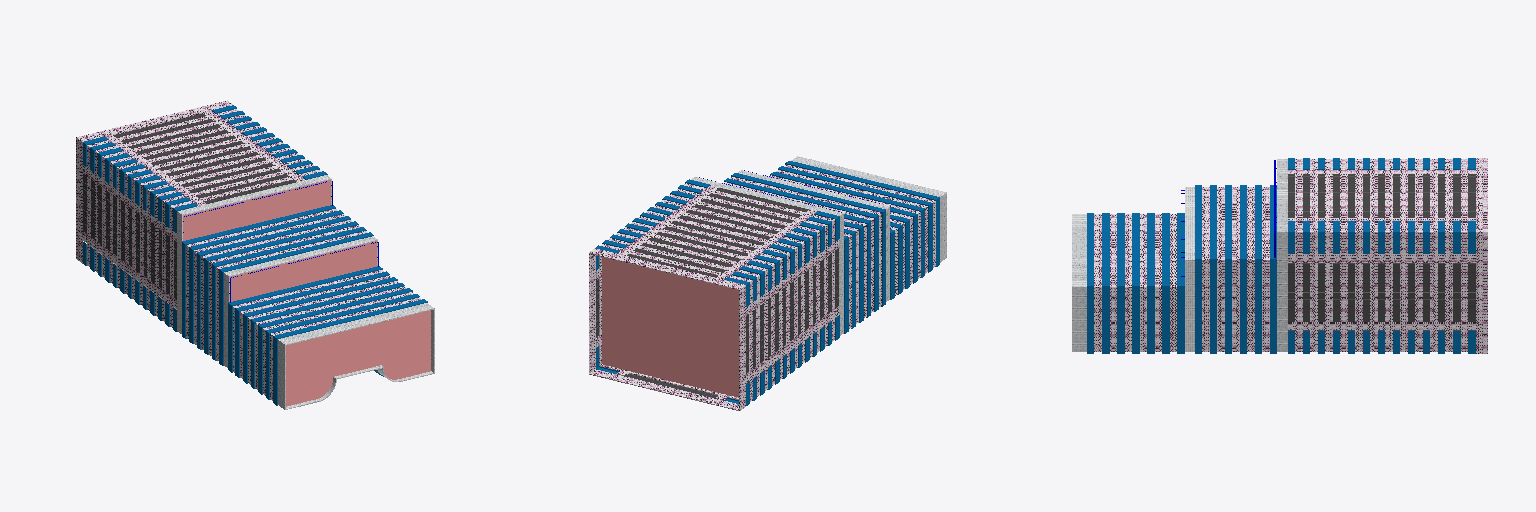
3 renders of one model, left to right at view 1: azimuth 30°, elevation 25°; view 2: azimuth 150°, elevation 25°; view 3: azimuth 270°, elevation 25°, orthographic.
Parts seen in each view (by area): view 1: slab_01, glass_01, wall_06, wall_01, glass_1_02, glass_02, wall_1_03, wall_07, wall_1_01, wall_1_02, wall_1_04, frame_01; view 2: slab_01, wall_06, glass_01, glass_1_02, wall_01, wall_07, glass_02, wall_1_03, wall_1_01, wall_1_02, frame_01, wall_08; view 3: glass_01, wall_06, wall_01, glass_1_02, wall_07, wall_1_01, wall_1_03, wall_1_02, frame_01, wall_02, wall_03.
Part boxes in pixels (bbox=[...]): slab_01: bbox=[92, 180, 430, 406]; glass_01: bbox=[83, 105, 427, 405]; wall_06: bbox=[87, 109, 321, 327]; wall_01: bbox=[186, 209, 421, 400]; glass_1_02: bbox=[83, 114, 295, 299]; glass_02: bbox=[86, 108, 427, 405]; wall_1_03: bbox=[278, 303, 433, 409]; wall_07: bbox=[76, 100, 232, 263]; wall_1_01: bbox=[177, 175, 331, 333]; wall_1_02: bbox=[224, 236, 377, 367]; wall_1_04: bbox=[182, 179, 434, 409]; frame_01: bbox=[83, 115, 379, 374]; slab_01: bbox=[602, 257, 837, 397]; wall_06: bbox=[600, 183, 834, 401]; glass_01: bbox=[596, 161, 939, 405]; glass_1_02: bbox=[596, 188, 838, 397]; wall_01: bbox=[723, 164, 935, 328]; wall_07: bbox=[589, 248, 745, 410]; glass_02: bbox=[597, 163, 935, 400]; wall_1_03: bbox=[791, 156, 946, 262]; wall_1_01: bbox=[691, 177, 843, 335]; wall_1_02: bbox=[738, 170, 889, 301]; frame_01: bbox=[596, 189, 838, 395]; wall_08: bbox=[589, 253, 823, 410]; glass_01: bbox=[1087, 158, 1475, 353]; wall_06: bbox=[1295, 159, 1467, 351]; wall_01: bbox=[1094, 187, 1269, 351]; glass_1_02: bbox=[1288, 174, 1475, 330]; wall_07: bbox=[1476, 158, 1487, 353]; wall_1_01: bbox=[1277, 159, 1287, 351]; wall_1_03: bbox=[1072, 214, 1086, 351]; wall_1_02: bbox=[1185, 187, 1194, 351]; frame_01: bbox=[1288, 176, 1475, 306]; wall_02: bbox=[1288, 254, 1475, 262]; wall_03: bbox=[1288, 322, 1475, 329].
Bounding box in the file's own units: 1394 × 1074 × 3320.
11 materials, 2 textured.